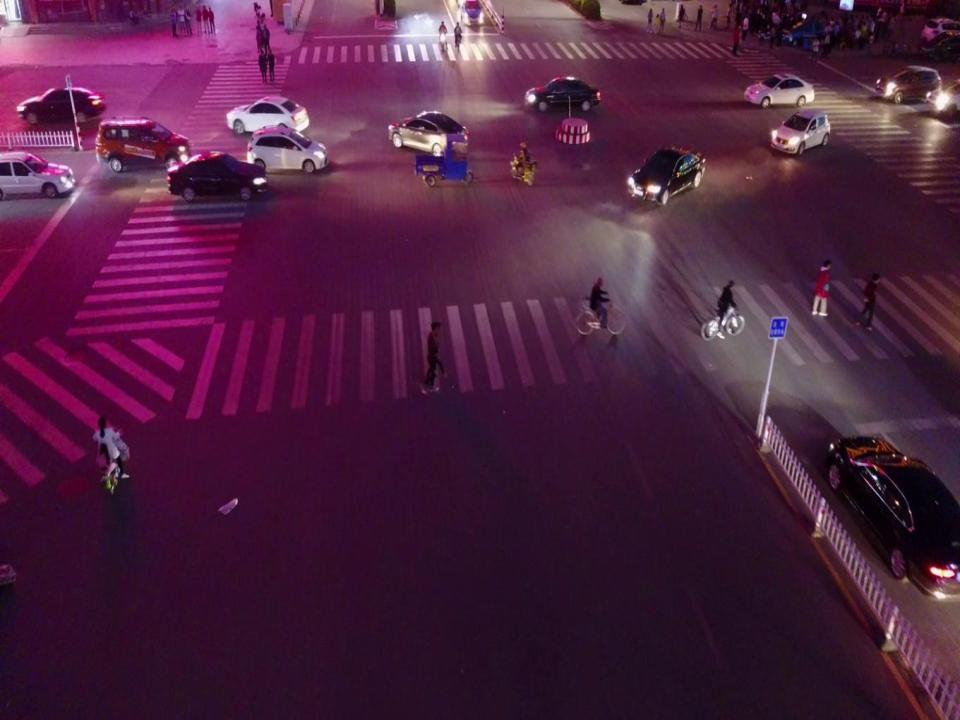car: (826, 434, 960, 606), (165, 150, 269, 200), (625, 142, 706, 206), (388, 107, 470, 157), (0, 150, 76, 200), (225, 94, 310, 138), (15, 85, 106, 125), (523, 75, 602, 112), (744, 72, 816, 106), (460, 0, 484, 26)
van: (95, 114, 191, 173), (246, 126, 330, 175), (771, 108, 831, 156), (875, 63, 942, 104), (925, 78, 960, 117), (919, 29, 960, 62), (921, 16, 960, 43)
